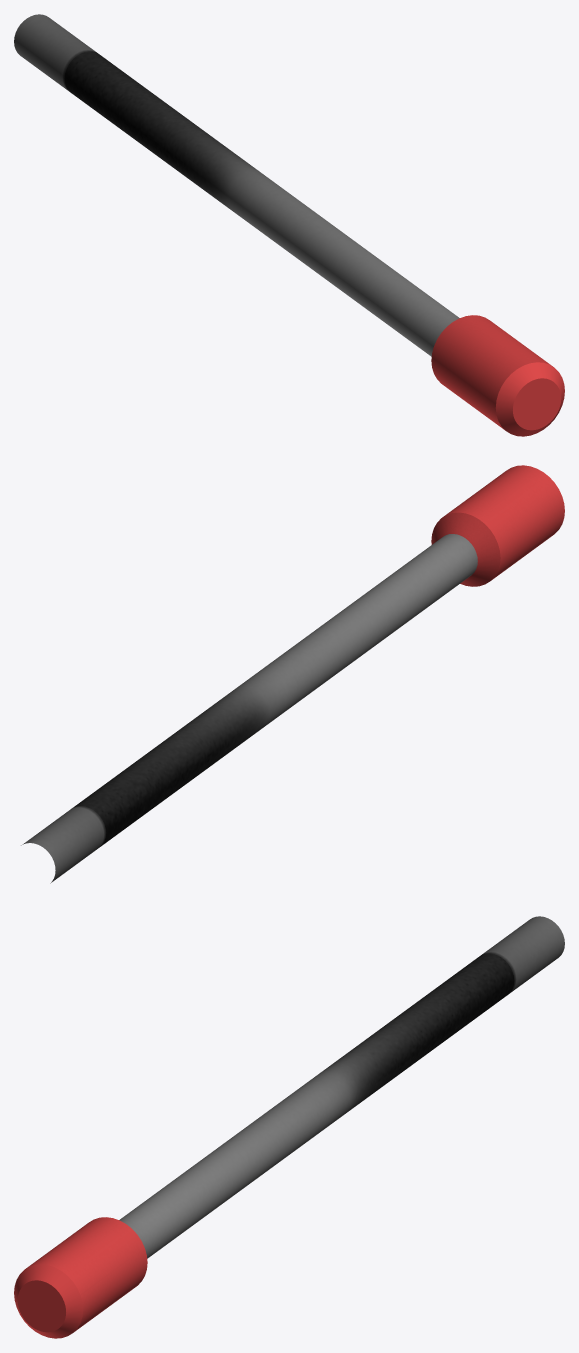
Rendered from switchlever.gltf.
3 views of the same model, one above another, from view 1: azimuth 30°, elevation 25°; view 2: azimuth 150°, elevation 25°; view 3: azimuth 330°, elevation 25° (orthographic).
Visible parts, largest first — view 1: SwitchLever; view 2: SwitchLever; view 3: SwitchLever.
Part boxes in pixels (x1,y1,x2,y2): SwitchLever: (14,14,564,436); SwitchLever: (21,465,564,883); SwitchLever: (14,916,564,1338).
Bounding box in the file's own units: 0.018 × 0.018 × 0.2262.
1 material, 1 textured.
